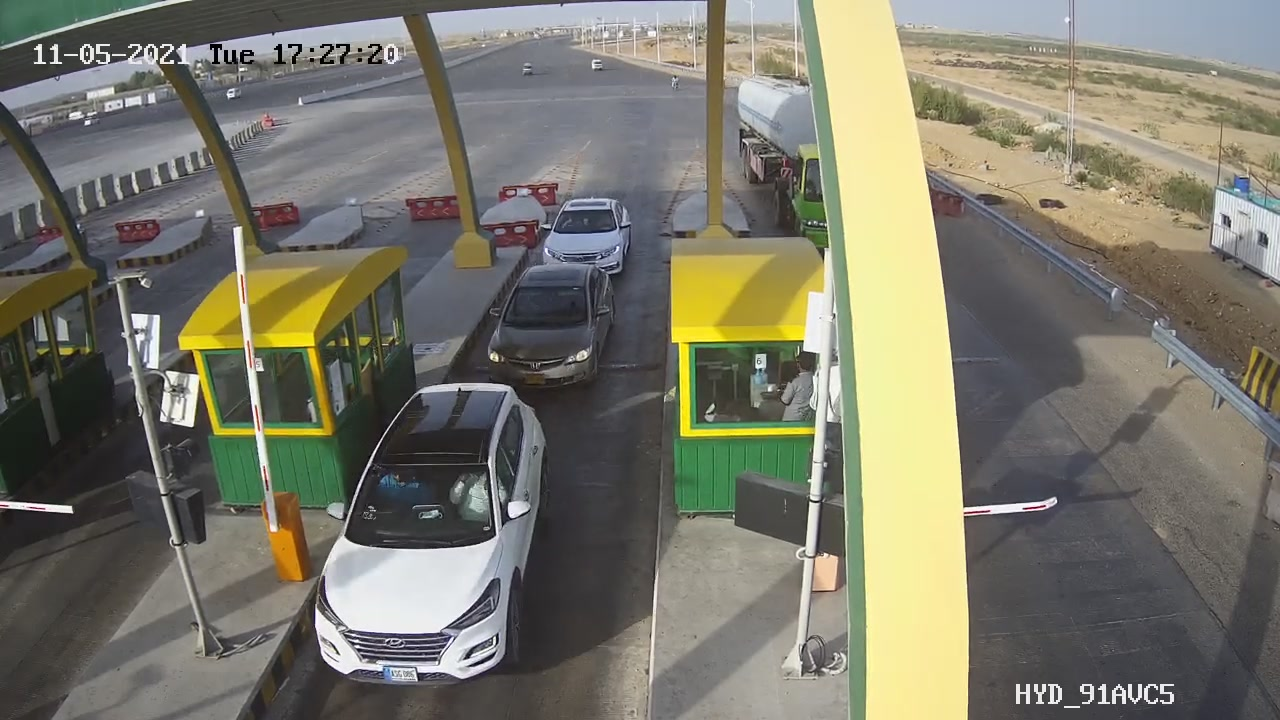F1: (466, 247, 640, 408)
